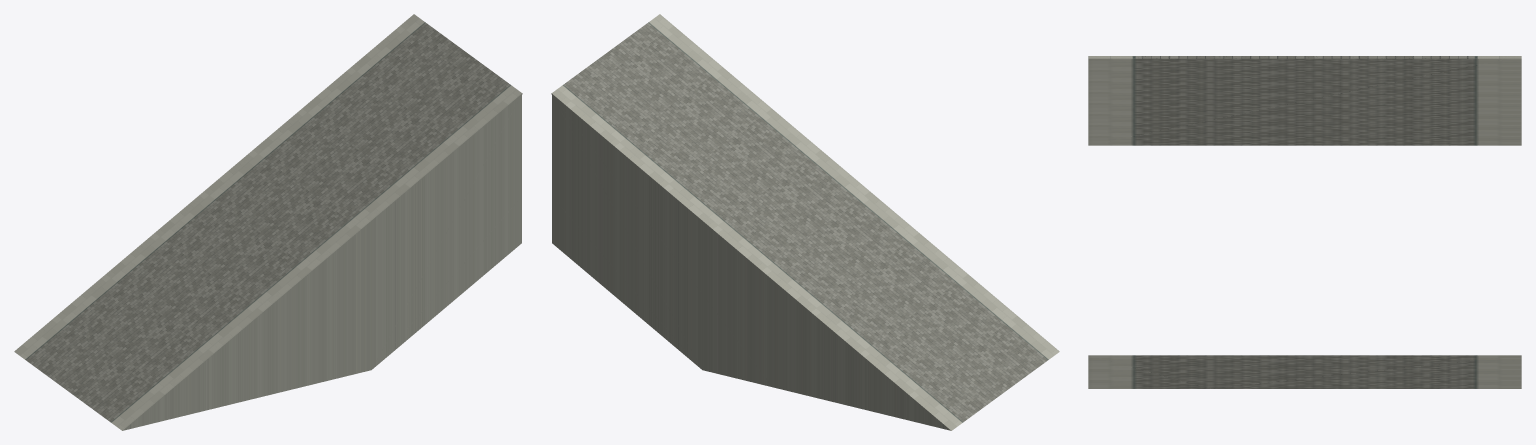
The model's file is SM_QD_Revision_OldTownSlope.fbx.
3 views of the same model, side by side, from view 1: azimuth 30°, elevation 25°; view 2: azimuth 150°, elevation 25°; view 3: azimuth 270°, elevation 25° (orthographic). The views are drawn at different scales.
Parts seen in each view (by area): view 1: SM_QD_Revision_OldTownSlope; view 2: SM_QD_Revision_OldTownSlope; view 3: SM_QD_Revision_OldTownSlope.
Part boxes in pixels (x1=…): SM_QD_Revision_OldTownSlope: x1=14, y1=14, x2=522, y2=430; SM_QD_Revision_OldTownSlope: x1=551, y1=14, x2=1059, y2=430; SM_QD_Revision_OldTownSlope: x1=1088, y1=56, x2=1521, y2=388.
Bounding box in the file's own units: 22.62 × 10.6 × 12.95.
